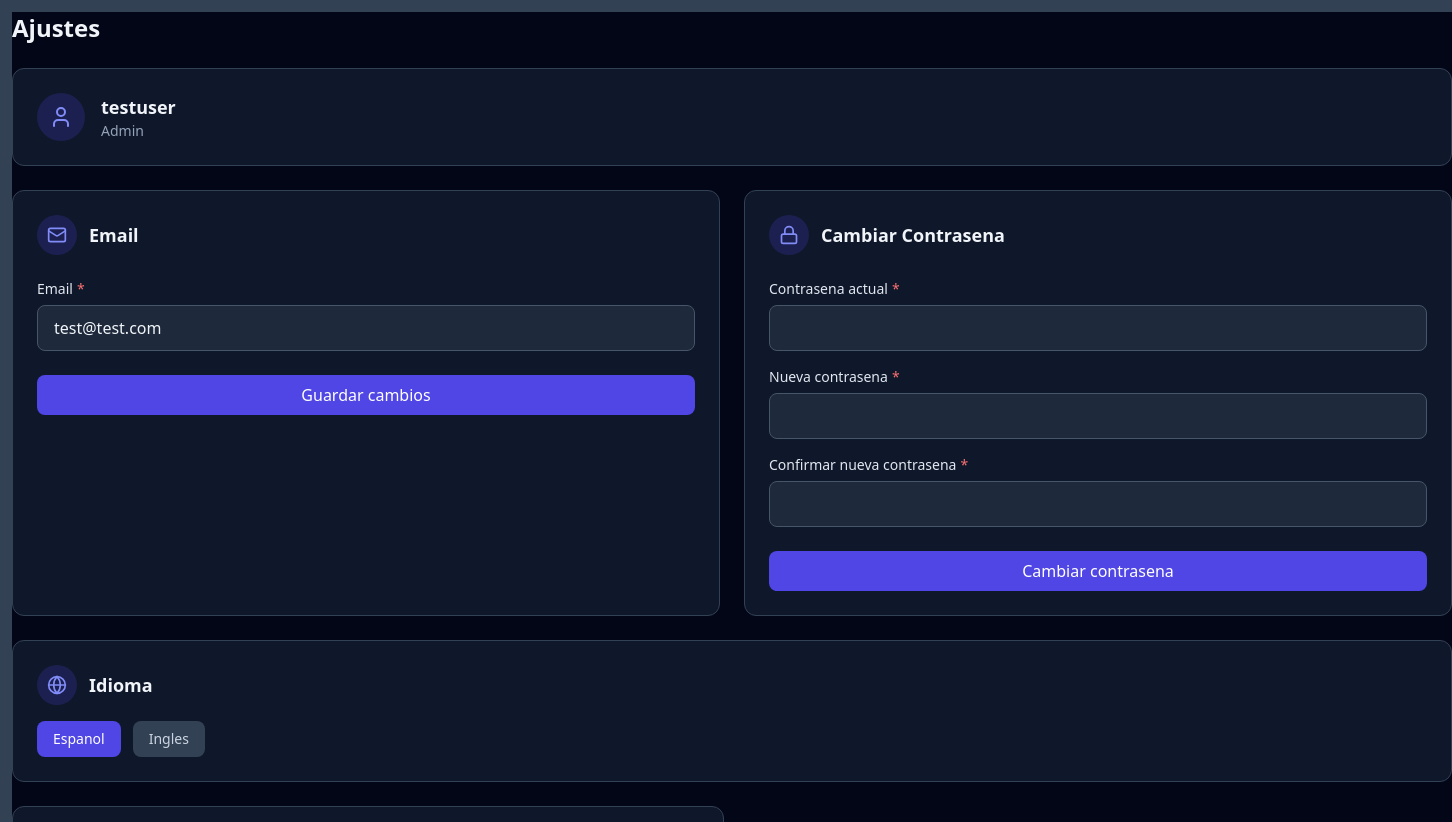
SettingsPage › language selector switches language
Click the button "Ingles": click(169, 739) left=133, top=721, right=205, bottom=757
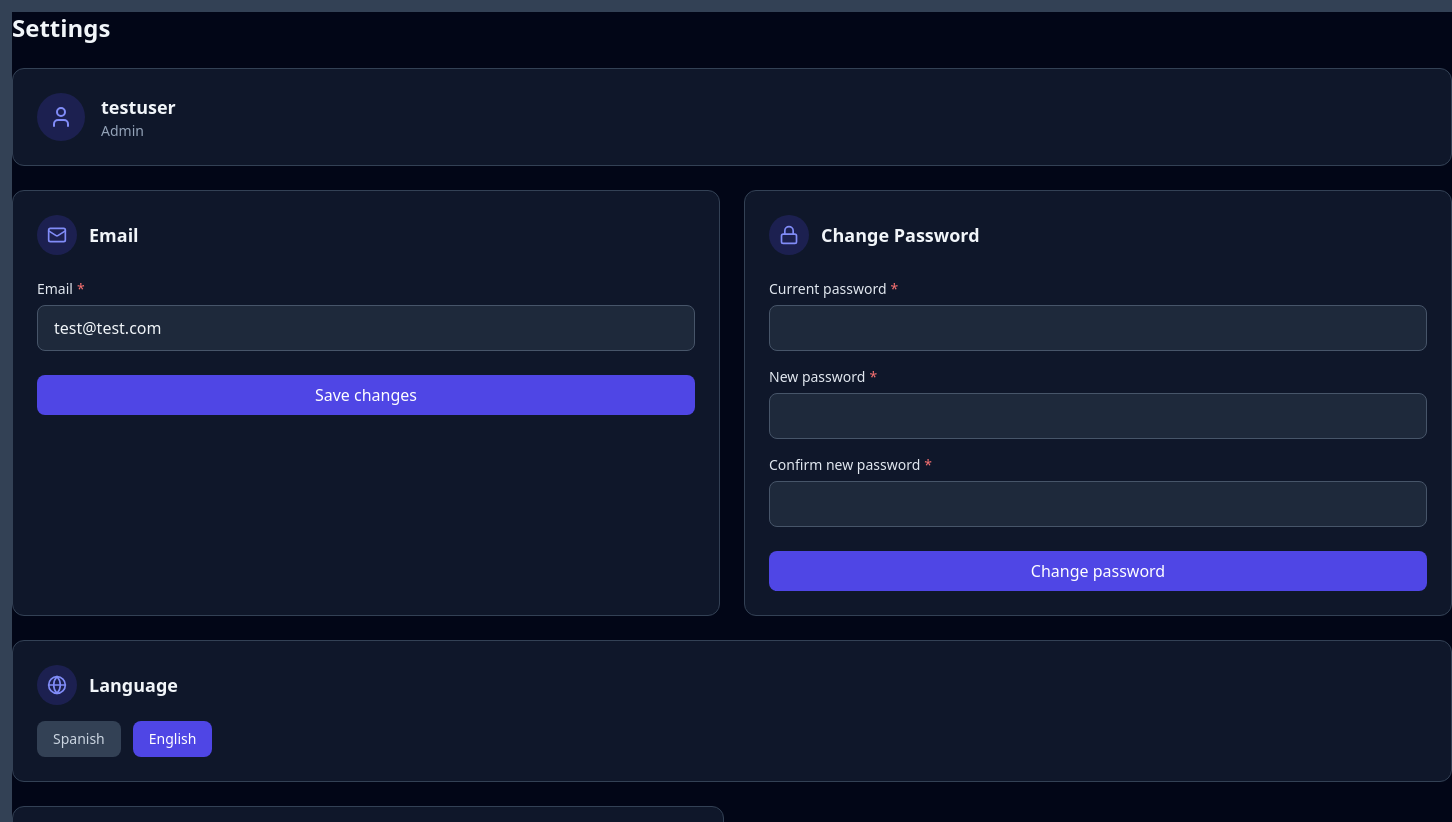
Check: the heading "Settings" is shown, box left=12, top=11, right=110, bottom=44
